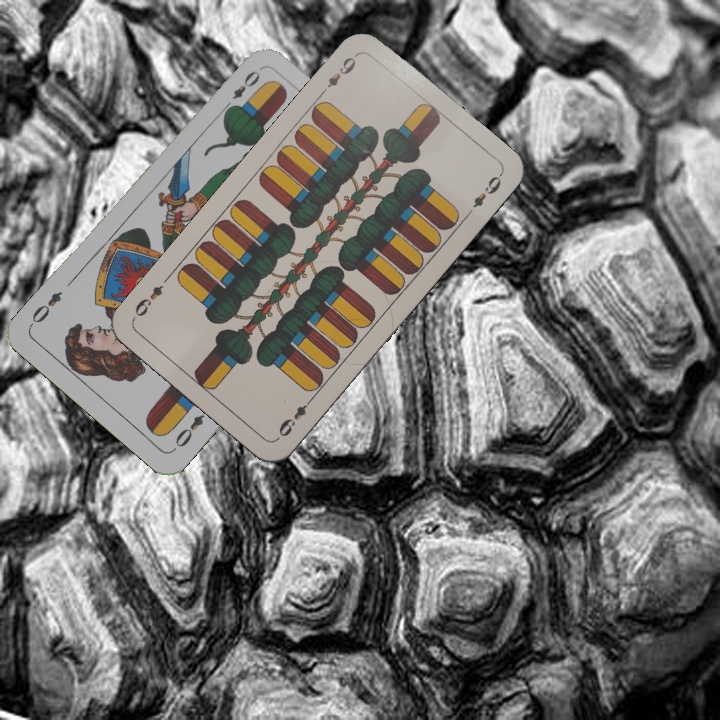E9: (273, 393, 317, 442), (316, 50, 360, 98)
EO: (218, 66, 263, 115), (170, 410, 207, 450)
